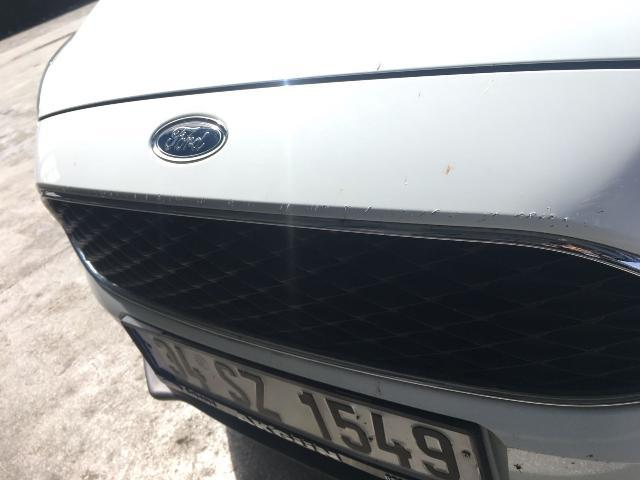crack: (513, 461, 527, 476)
scratch: (58, 184, 582, 235), (442, 159, 455, 178), (373, 58, 385, 72), (584, 451, 599, 462)
